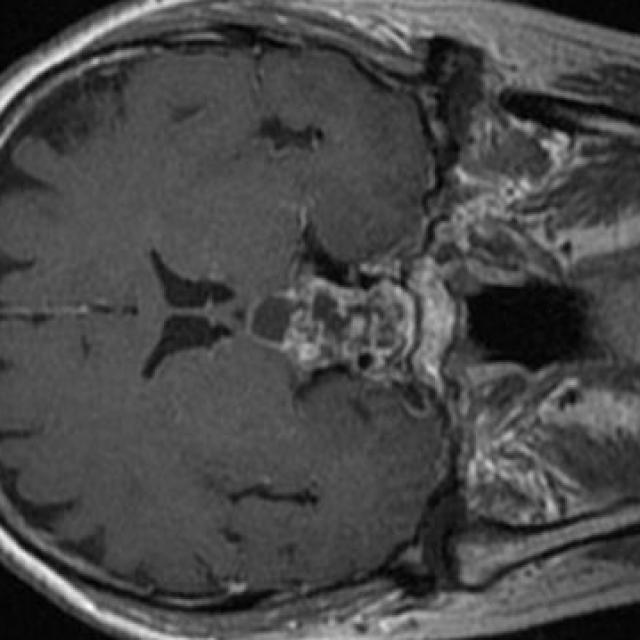pituitary: (250, 280, 415, 373)
